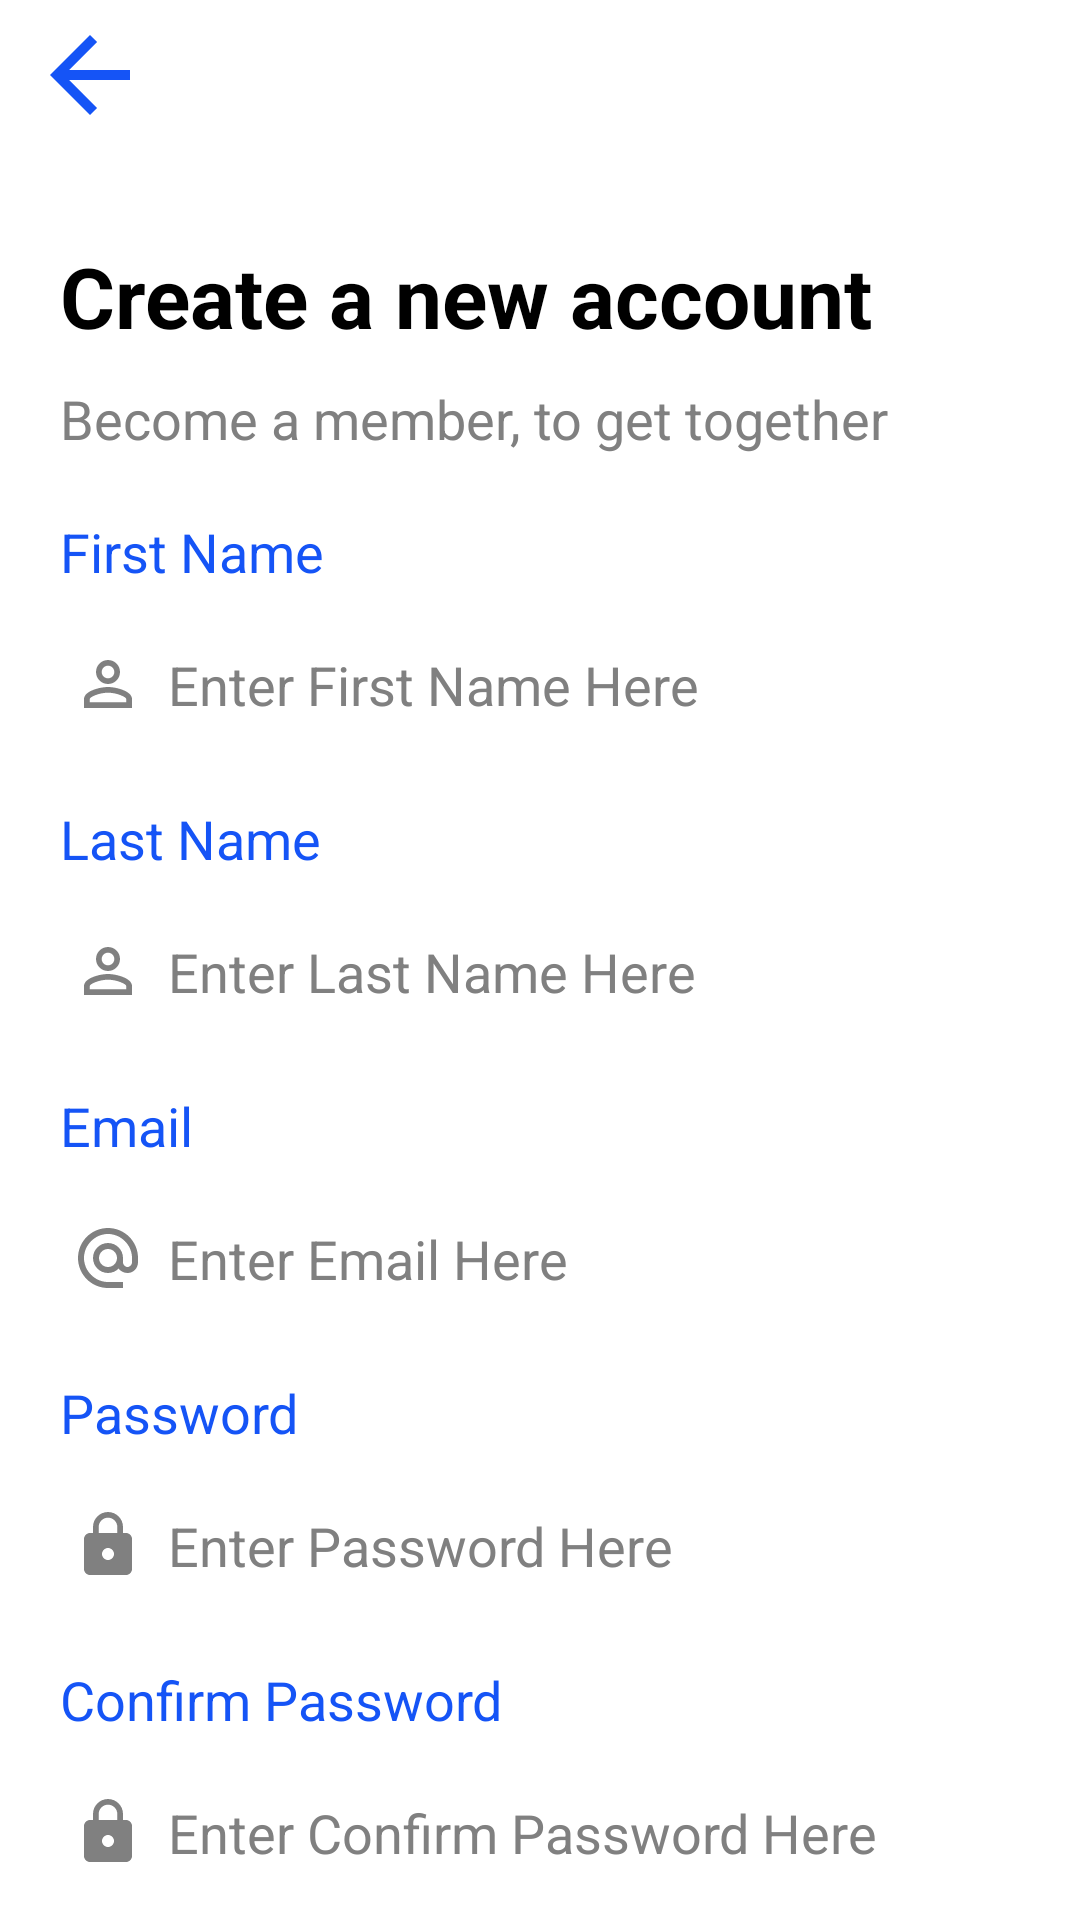

Screen size 1080x1920. Icon name, then its box in pixels as (x1, y1, x2, y2):
arrow back: (50, 35, 130, 115)
